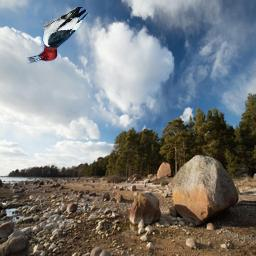Woodpecker: (27, 7, 89, 64)
